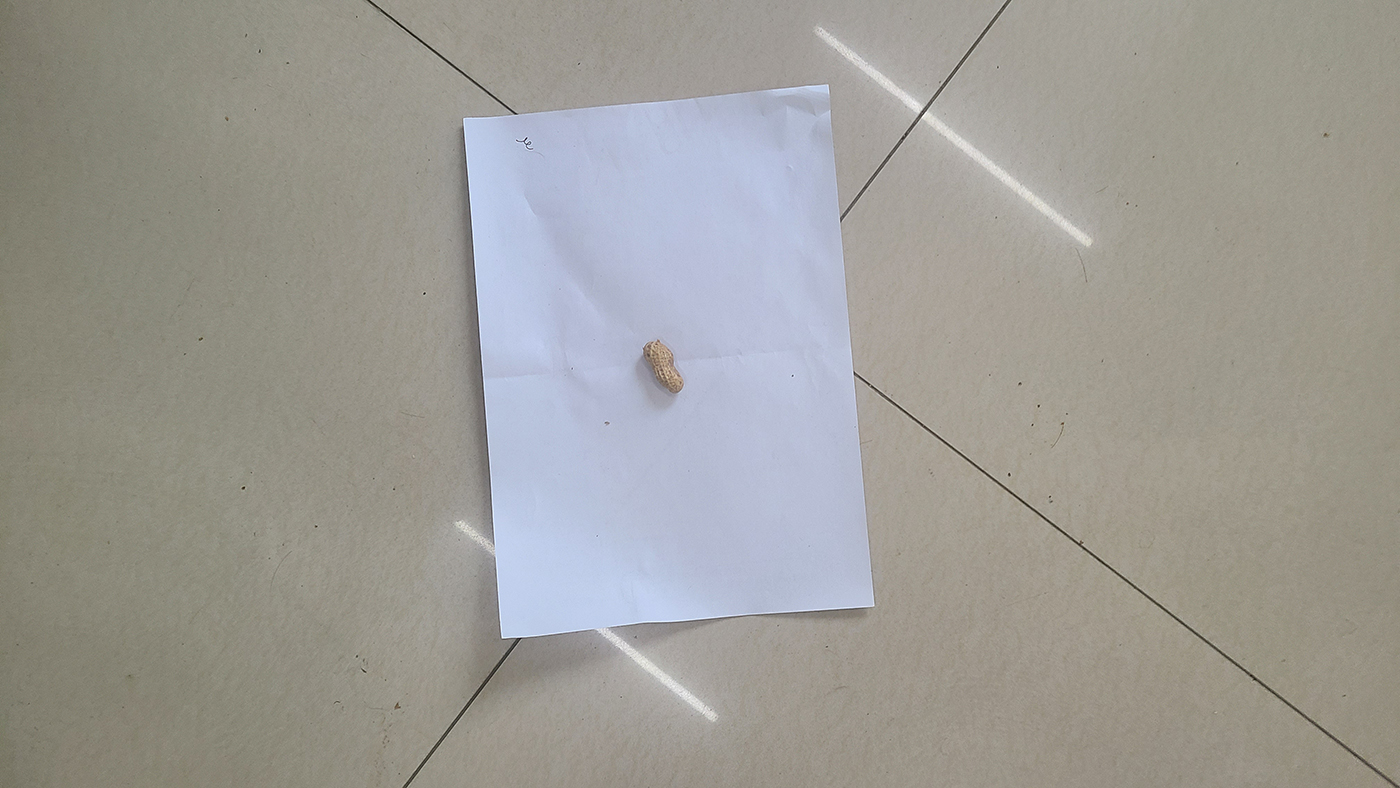h: (643, 340, 685, 394)
